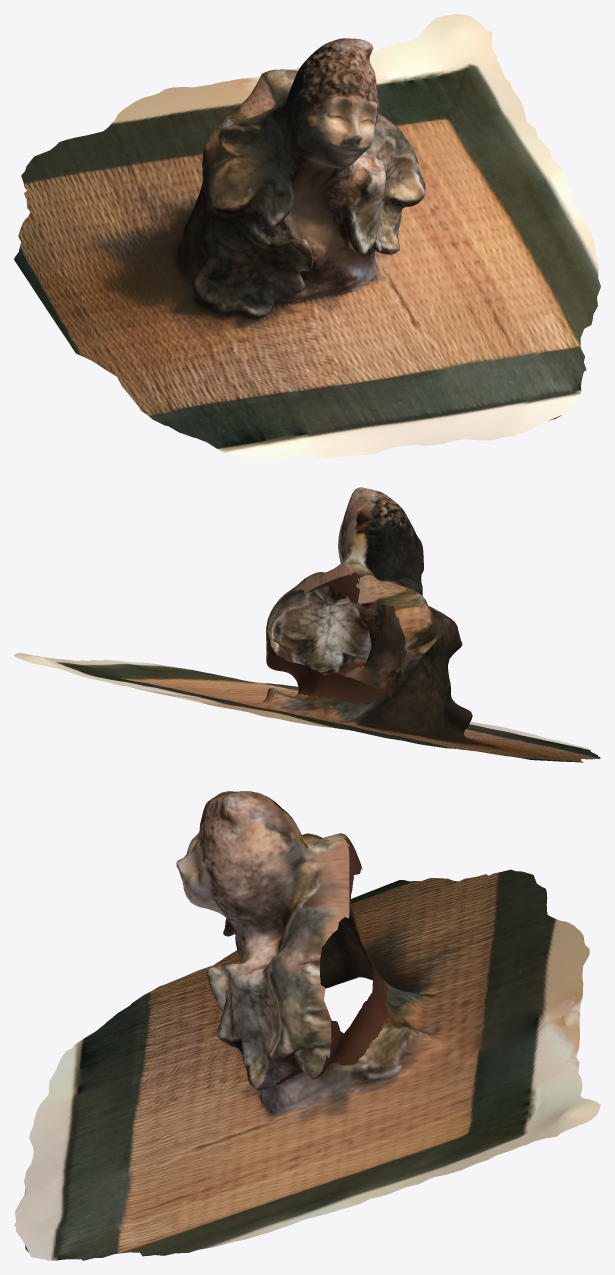
The model's file is noefy2.obj.
3 renders of one model, top to bottom at view 1: azimuth 30°, elevation 25°; view 2: azimuth 150°, elevation 25°; view 3: azimuth 270°, elevation 25°, orthographic. The views are drawn at different scales.
Bounding box in the file's own units: 1.74 × 1.04 × 1.4.
